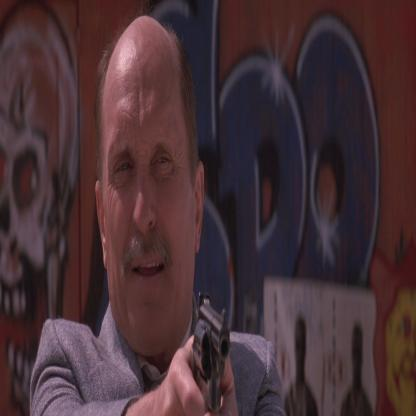gun: (190, 273, 239, 410)
